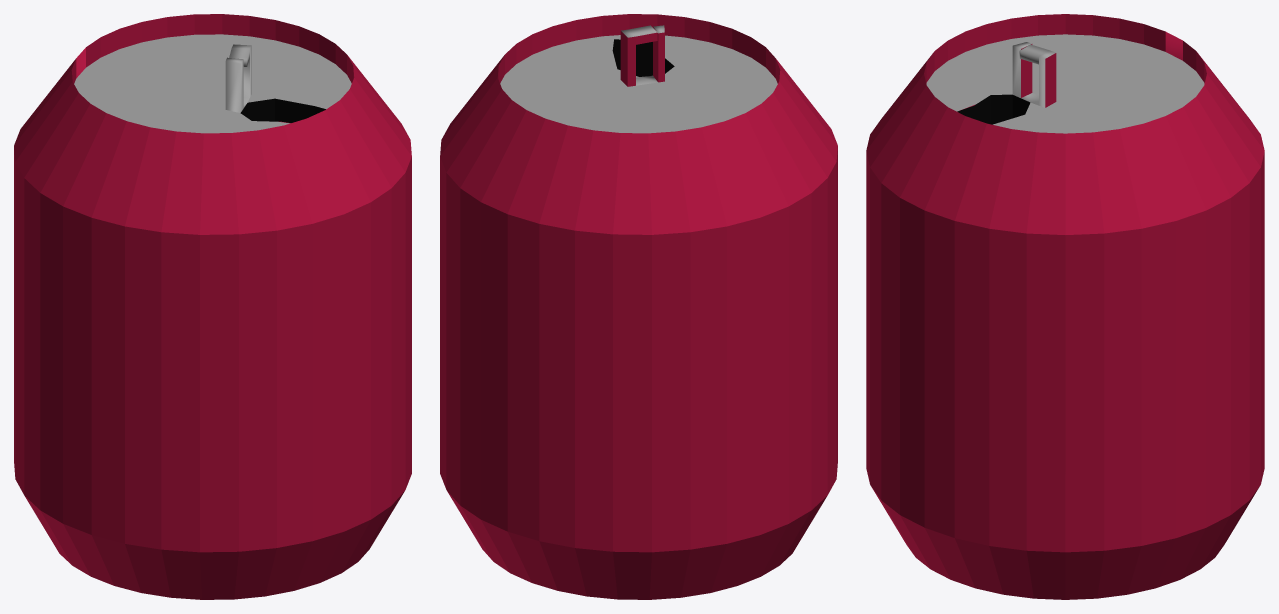
File: Can.fbx
3 renders of one model, left to right at view 1: azimuth 30°, elevation 25°; view 2: azimuth 150°, elevation 25°; view 3: azimuth 270°, elevation 25°, orthographic.
Visible parts, largest first — view 1: Cylinder; view 2: Cylinder; view 3: Cylinder.
Boxes of the visible parts, bbox=[...] form: Cylinder: bbox=[14, 14, 411, 599]; Cylinder: bbox=[440, 14, 837, 599]; Cylinder: bbox=[866, 14, 1264, 599].
Size of the model in its own units: 200 by 269 by 200.
